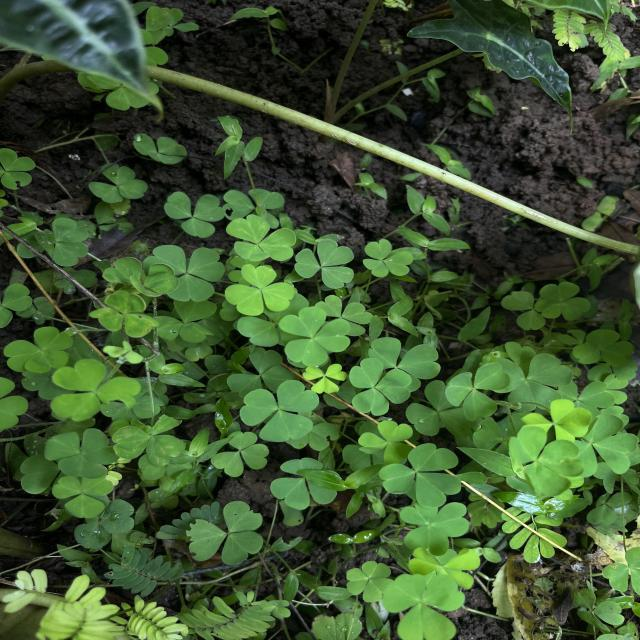Oxalis corniculata: (51, 357, 142, 423), (382, 572, 466, 640), (378, 442, 463, 508), (185, 499, 265, 566), (239, 380, 320, 442), (142, 243, 226, 301), (277, 306, 352, 368), (398, 498, 470, 556), (444, 362, 512, 422), (44, 427, 118, 479), (224, 264, 296, 316), (350, 356, 412, 416), (270, 458, 338, 510), (4, 325, 74, 375), (226, 214, 296, 262), (294, 239, 356, 290), (162, 190, 226, 238), (210, 430, 270, 478), (88, 160, 148, 204), (52, 476, 114, 518), (572, 328, 634, 368), (533, 281, 592, 322), (345, 560, 393, 604), (363, 238, 413, 278), (131, 132, 188, 166), (302, 363, 348, 394)
